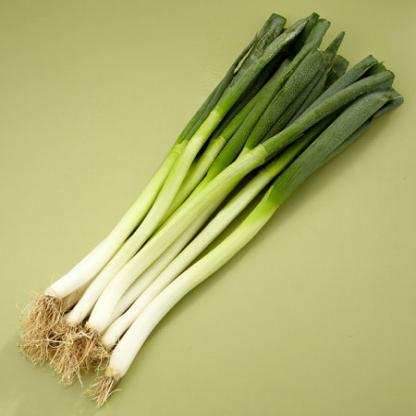green onion: (25, 16, 400, 395)
